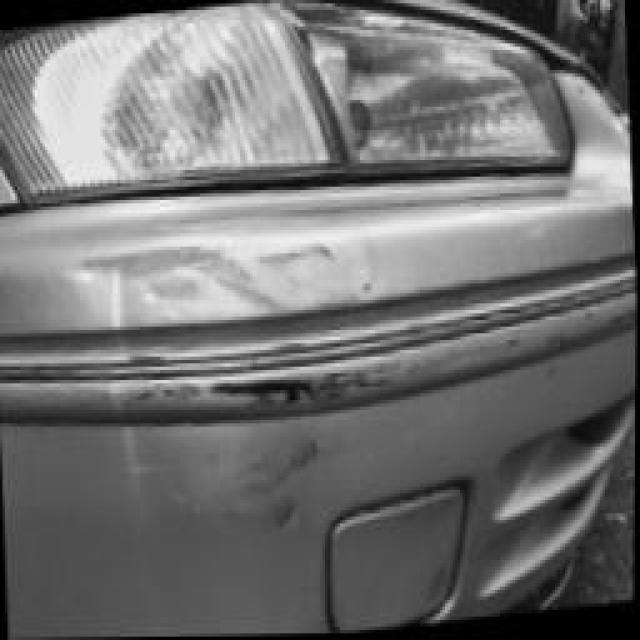Bumper: (60, 183, 429, 612)
